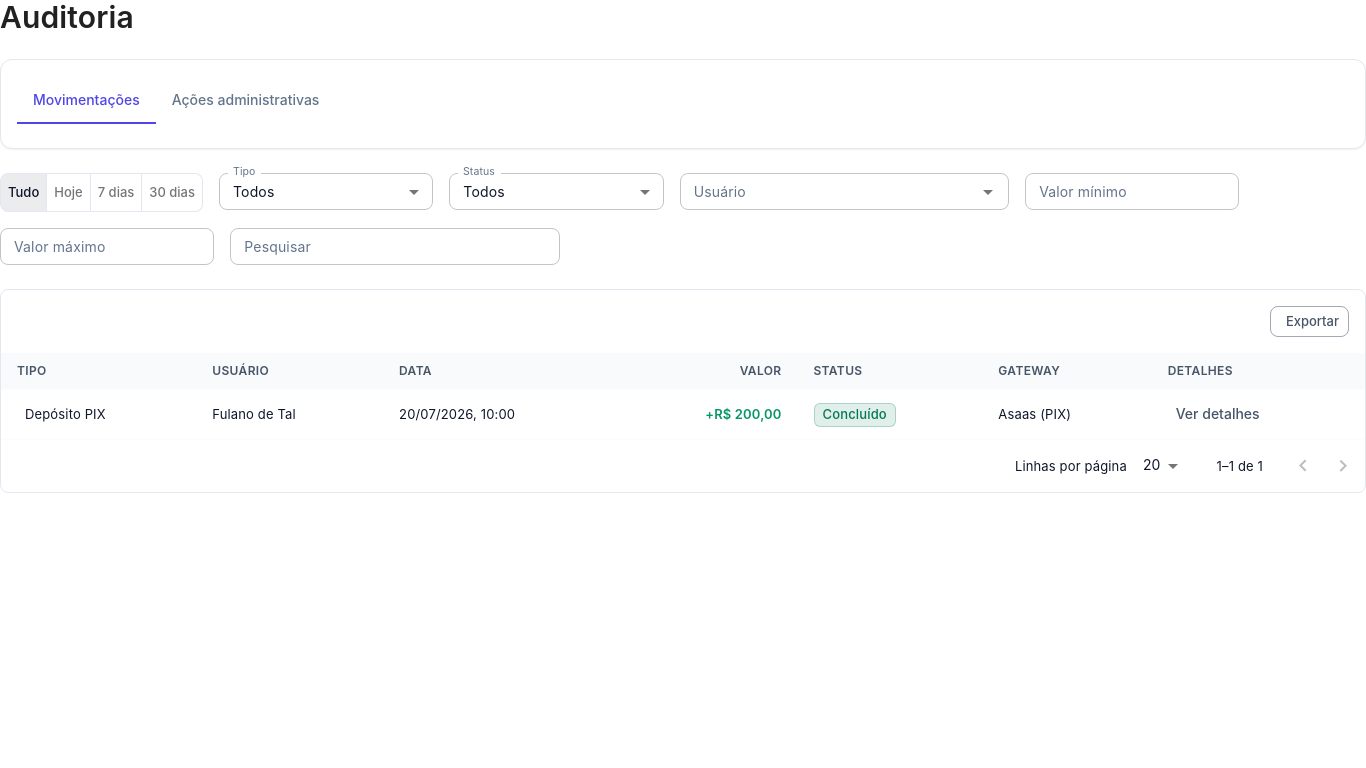
Test case: AuditPage › "Ver detalhes" abre o diálogo com os campos completos da movimentação
The width and height of the screenshot is (1366, 768).
Check: the link "Fulano de Tal" is shown, box x1=212 y1=406 x2=296 y2=422
Click the button "Ver detalhes" at (1218, 415), box x1=1168 y1=396 x2=1268 y2=433
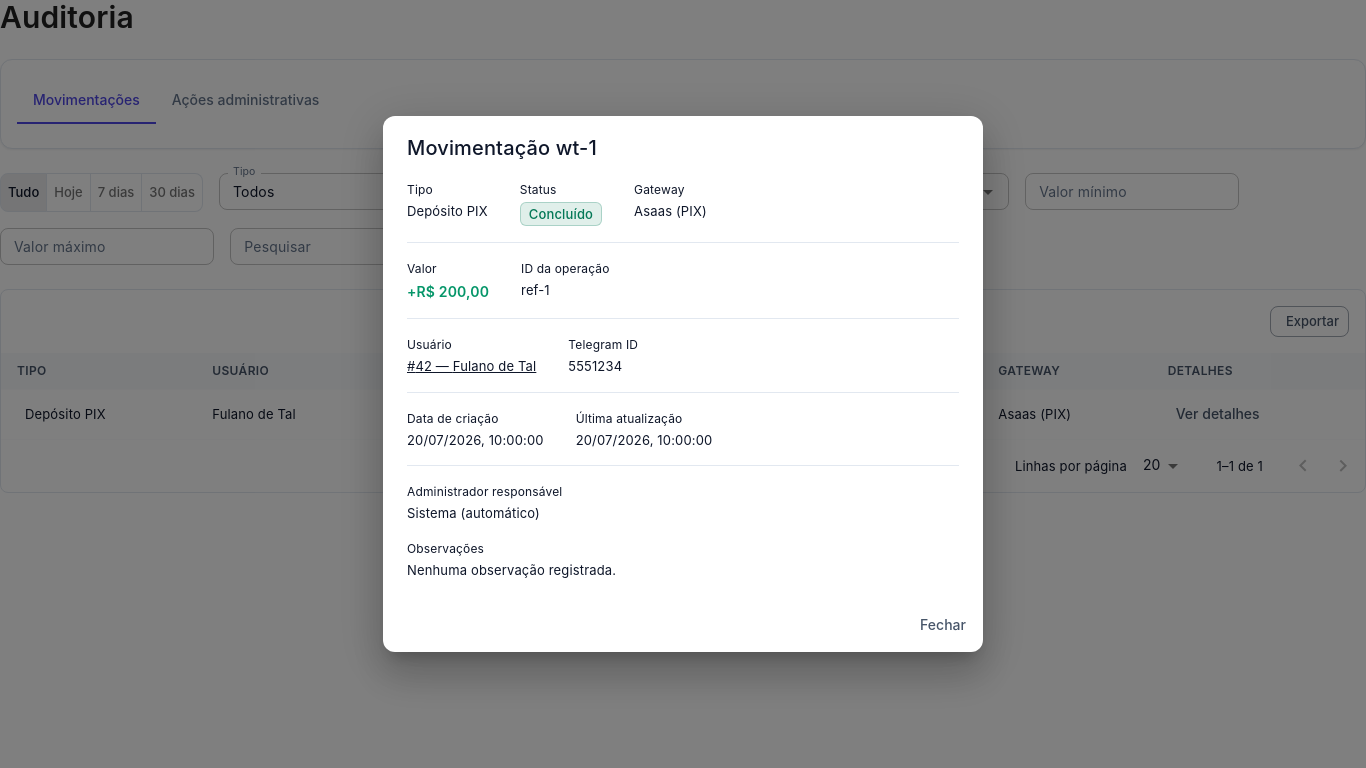
Check: the heading "Movimentação wt-1" is shown, box x1=407 y1=136 x2=597 y2=160
Check: the text "Asaas (PIX)" is shown, box x1=634 y1=202 x2=707 y2=221
Check: the text "5551234" is shown, box x1=568 y1=358 x2=622 y2=374
